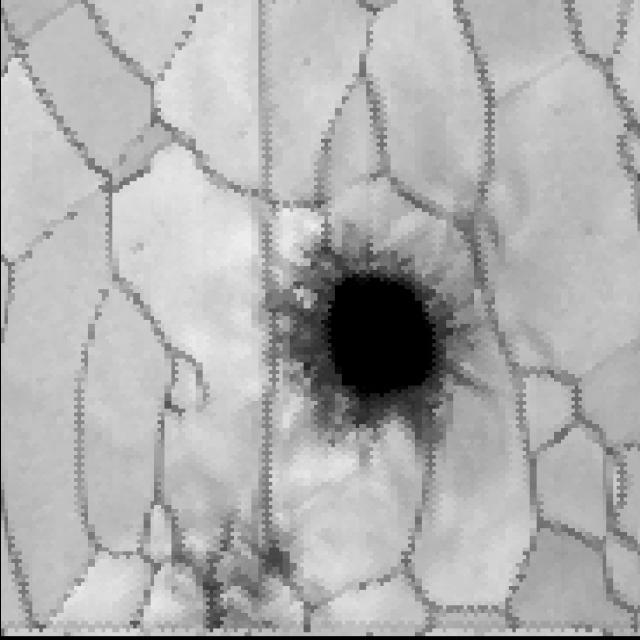good_void: (246, 213, 504, 482), (176, 512, 317, 628)
